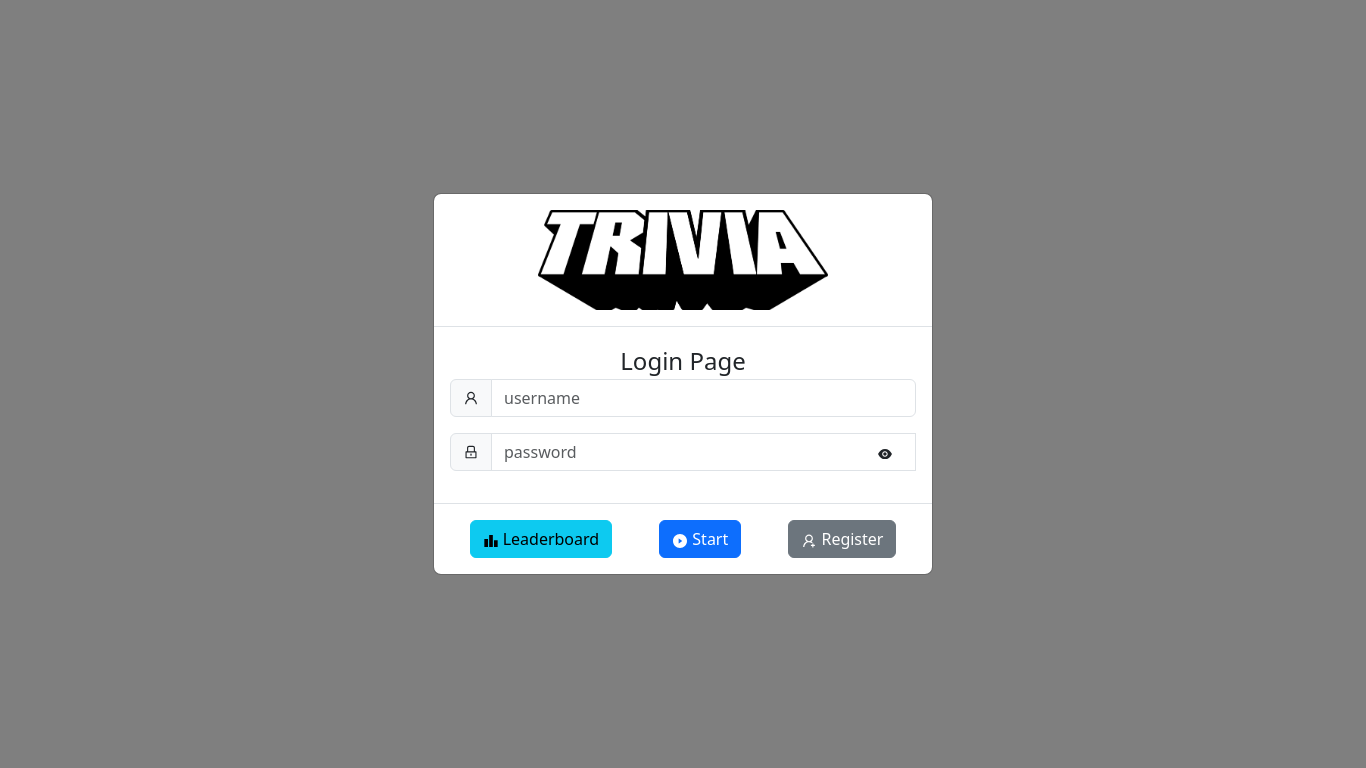
Test case: Login Page › should be possible to see the password when the eye icon is clicked
The width and height of the screenshot is (1366, 768).
In the field with placeholder "username": (704, 398) [491,379,916,417], type "@john.constantine"
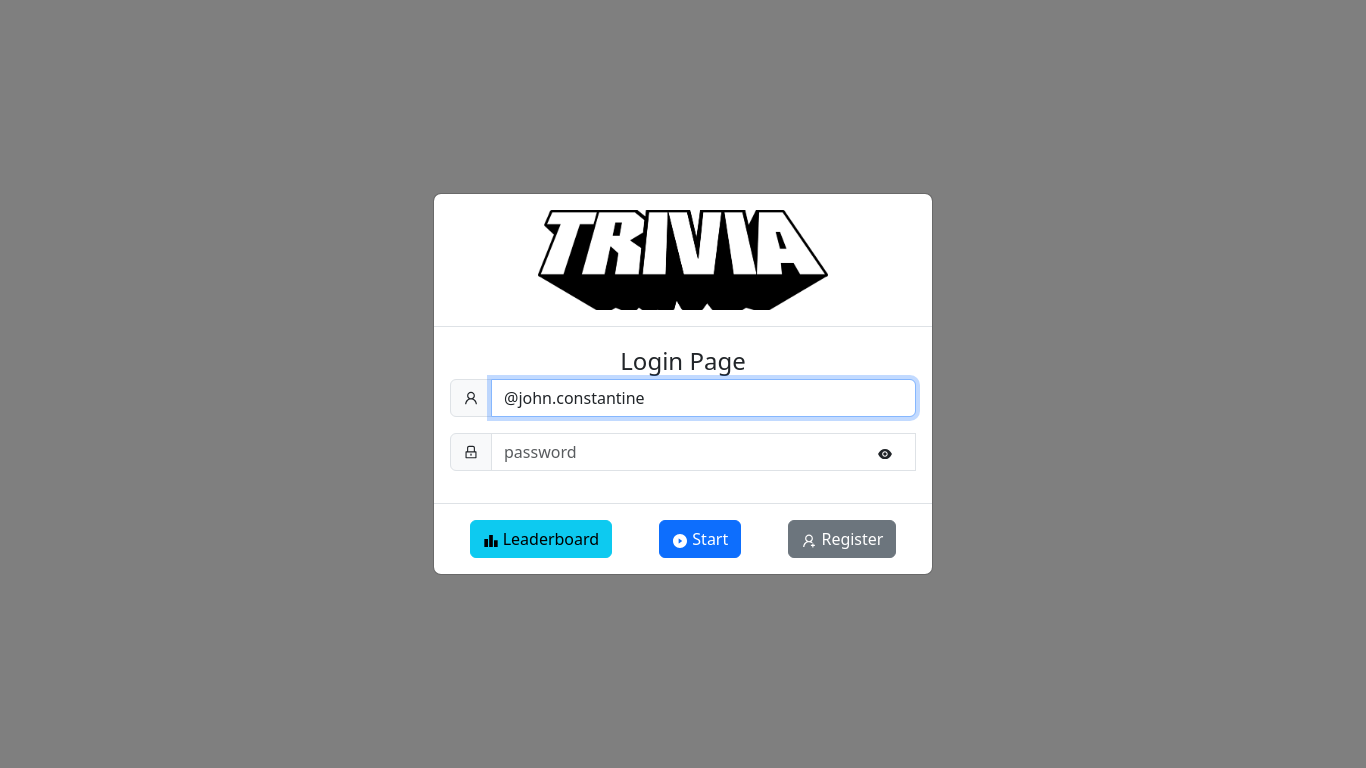
In the password field with placeholder "password": (704, 452) [491,433,916,471], type "123456"
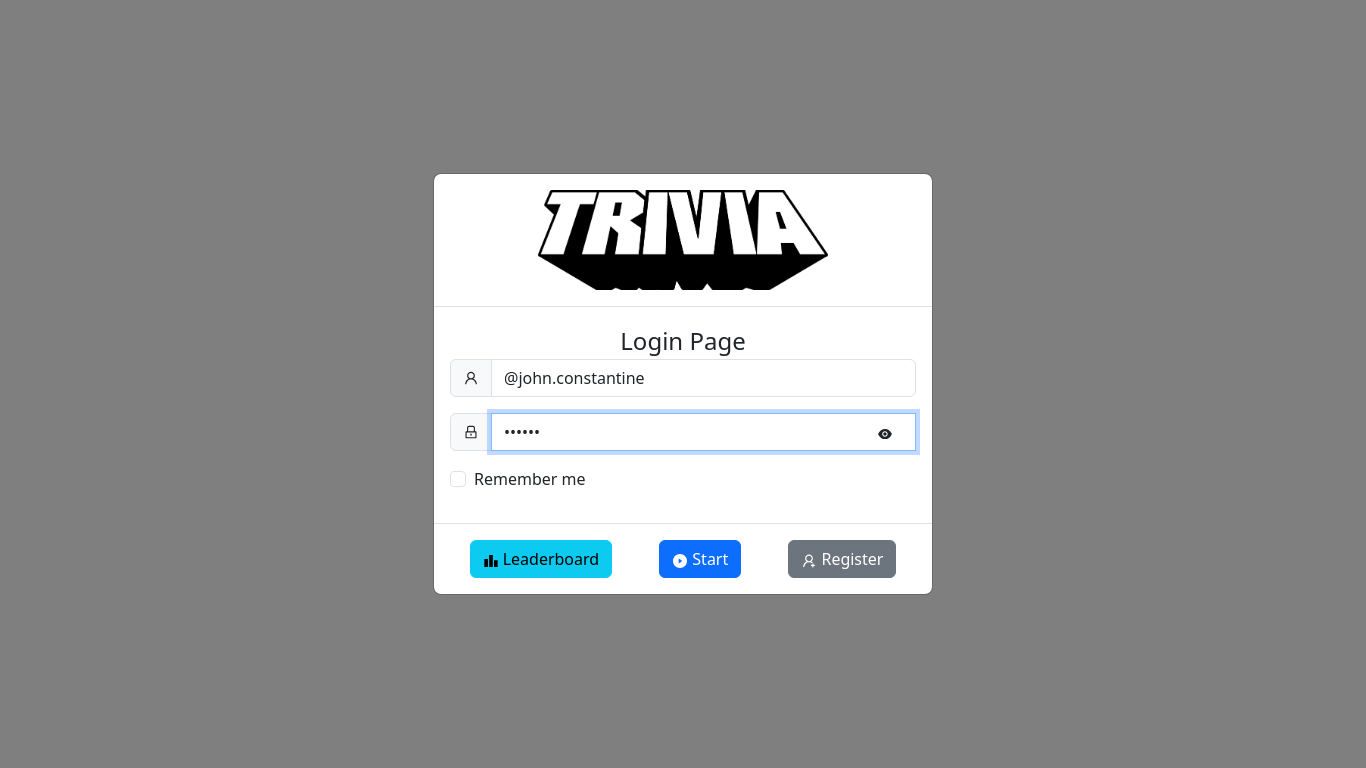
Click the button with test id "eye-icon": (885, 432) [864,413,906,451]
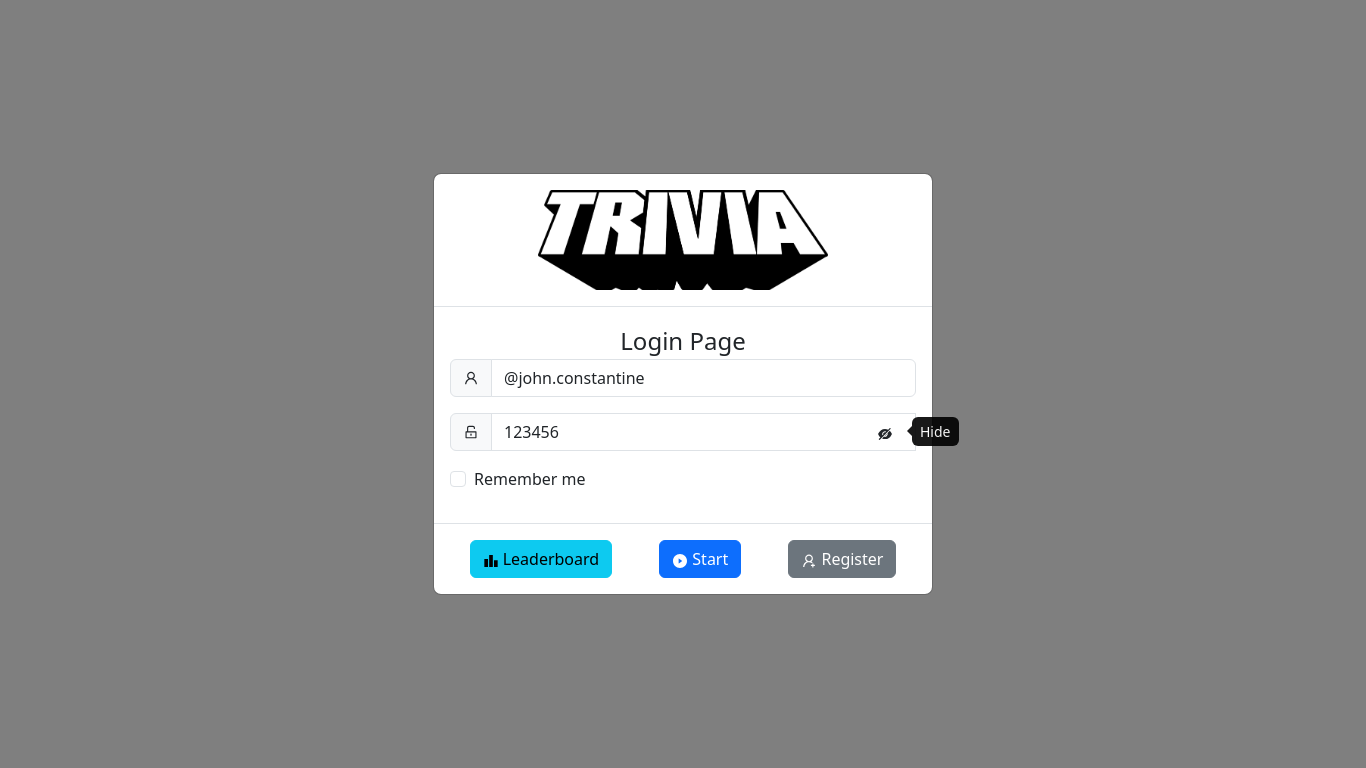
Result: the 2nd field with placeholder "password" shows its text at [491,413,916,451]
